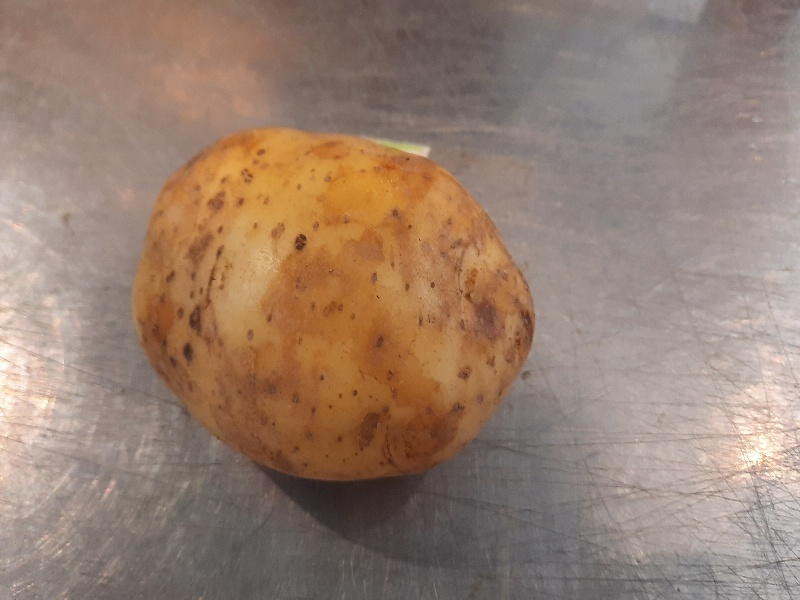vege: (129, 122, 538, 488)
